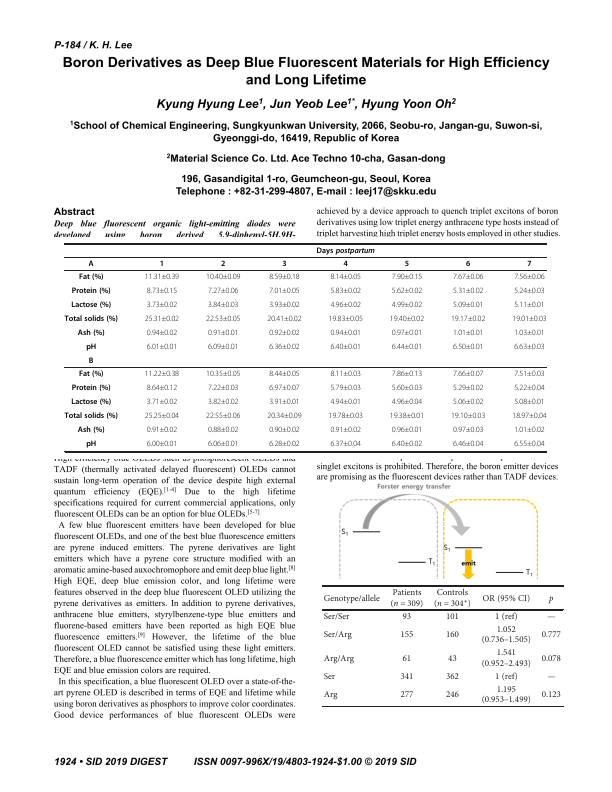borderless: (64, 242, 546, 451), (322, 584, 564, 707)
cell: (480, 625, 531, 646), (480, 648, 531, 669), (480, 685, 531, 706), (433, 588, 472, 609), (389, 588, 424, 609), (322, 593, 380, 604), (481, 593, 531, 604), (64, 314, 119, 324), (64, 411, 119, 421), (316, 246, 376, 255), (70, 300, 112, 310), (70, 397, 112, 407), (71, 286, 111, 296), (71, 383, 111, 393), (322, 653, 355, 664), (322, 630, 352, 640), (322, 612, 350, 622), (77, 328, 105, 338), (77, 425, 105, 435), (78, 272, 104, 282), (78, 369, 104, 379), (144, 273, 180, 280), (205, 273, 241, 280), (144, 315, 180, 322), (205, 315, 241, 322), (266, 315, 302, 322), (328, 315, 364, 322), (389, 315, 425, 322), (450, 315, 486, 322), (511, 315, 547, 322), (144, 370, 180, 377), (205, 370, 241, 377), (144, 412, 180, 419), (205, 412, 241, 419), (266, 412, 302, 419), (328, 412, 364, 419), (389, 412, 425, 419), (450, 412, 486, 419), (511, 412, 547, 419), (494, 612, 518, 622), (494, 672, 518, 682), (540, 653, 561, 664), (540, 690, 561, 701), (268, 273, 301, 280), (329, 273, 362, 280), (513, 273, 546, 280), (268, 287, 301, 294), (329, 287, 362, 294), (513, 287, 546, 294), (268, 301, 301, 308), (329, 301, 362, 308), (513, 301, 546, 308), (268, 329, 301, 336), (329, 329, 362, 336), (513, 329, 546, 336), (268, 343, 301, 350), (329, 343, 362, 350), (513, 343, 546, 350), (268, 370, 301, 377), (329, 370, 362, 377), (513, 370, 546, 377), (268, 384, 301, 391), (329, 384, 362, 391), (513, 384, 546, 391), (268, 398, 301, 405), (329, 398, 362, 405), (513, 398, 546, 405), (268, 426, 301, 433), (329, 426, 362, 433), (513, 426, 546, 433), (268, 440, 301, 447), (329, 440, 362, 447), (513, 440, 546, 447), (391, 273, 423, 280), (452, 273, 484, 280), (146, 287, 178, 294), (207, 287, 239, 294), (391, 287, 423, 294), (452, 287, 484, 294), (146, 301, 178, 308), (207, 301, 239, 308), (391, 301, 423, 308), (452, 301, 484, 308), (146, 329, 178, 336), (207, 329, 239, 336), (391, 329, 423, 336), (452, 329, 484, 336), (146, 343, 178, 350), (207, 343, 239, 350), (391, 343, 423, 350), (452, 343, 484, 350), (391, 370, 423, 377), (452, 370, 484, 377), (146, 384, 178, 391), (207, 384, 239, 391), (391, 384, 423, 391), (452, 384, 484, 391), (146, 398, 178, 405), (207, 398, 239, 405), (391, 398, 423, 405), (452, 398, 484, 405), (146, 426, 178, 433), (207, 426, 239, 433), (391, 426, 423, 433), (452, 426, 484, 433), (146, 440, 178, 447), (207, 440, 239, 447), (391, 440, 423, 447), (452, 440, 484, 447), (540, 630, 561, 640), (322, 690, 338, 701), (399, 690, 414, 701), (445, 690, 460, 701), (445, 612, 460, 622), (399, 630, 414, 640), (445, 630, 460, 640), (399, 672, 414, 682), (445, 672, 460, 682), (322, 672, 336, 682), (401, 653, 412, 664), (85, 342, 97, 352), (85, 439, 97, 449), (401, 612, 412, 622), (447, 653, 457, 664), (88, 259, 95, 269), (342, 259, 349, 269), (159, 259, 165, 269), (220, 259, 226, 269), (281, 259, 287, 269), (404, 259, 410, 269), (465, 259, 471, 269), (526, 259, 532, 269), (88, 356, 94, 366), (548, 595, 554, 604), (546, 616, 556, 620), (546, 676, 556, 680)
